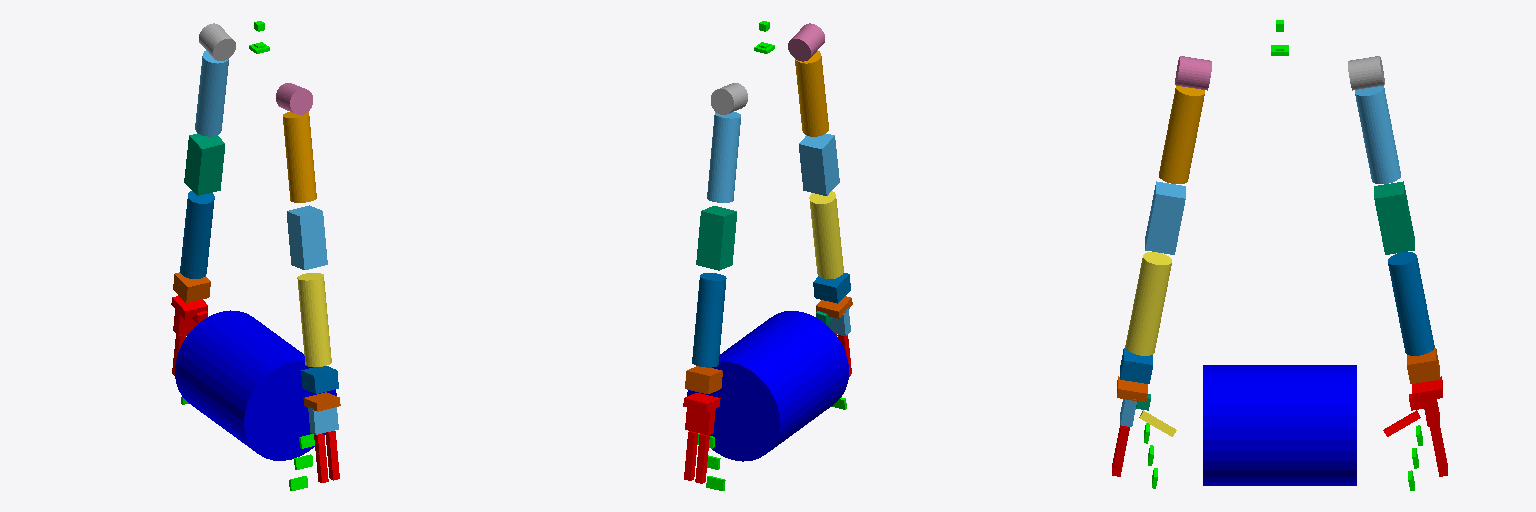
--- Render facts (derived) ---
Views: 3 orthographic renders of the robot side by side, from view 1: azimuth 30°, elevation 25°; view 2: azimuth 150°, elevation 25°; view 3: azimuth 270°, elevation 25°.
Robot: flintrobot — 55 links, 54 joints (19 revolute, 2 prismatic, 33 fixed); root link base_link; default pose: all joints at 0.
Links seen in each view (by area): view 1: base_link, right_forearm, right_posterior_arm, left_forearm, right_elbow, left_posterior_arm, left_elbow, left_shoulder, right_shoulder, right_forearm_b, left_forearm_b, right_hand; view 2: base_link, left_forearm, left_posterior_arm, right_forearm, left_elbow, right_posterior_arm, right_elbow, right_shoulder, left_shoulder, left_forearm_b, right_forearm_b, left_hand; view 3: base_link, right_forearm, left_forearm, right_posterior_arm, left_posterior_arm, right_elbow, left_elbow, right_shoulder, left_shoulder, right_forearm_b, left_forearm_b, left_wrist (+1 smaller).
Link boxes in pixels (left/top/right/bottom): base_link: left=175, top=310, right=336, bottom=460; right_forearm: left=297, top=273, right=331, bottom=366; right_posterior_arm: left=283, top=112, right=316, bottom=202; left_forearm: left=180, top=191, right=214, bottom=278; right_elbow: left=287, top=205, right=327, bottom=269; left_posterior_arm: left=195, top=50, right=228, bottom=136; left_elbow: left=184, top=133, right=224, bottom=195; left_shoulder: left=199, top=23, right=235, bottom=60; right_shoulder: left=276, top=83, right=312, bottom=114; right_forearm_b: left=301, top=366, right=338, bottom=393; left_forearm_b: left=173, top=272, right=210, bottom=302; right_hand: left=308, top=407, right=338, bottom=434; base_link: left=687, top=311, right=848, bottom=461; left_forearm: left=692, top=273, right=726, bottom=367; left_posterior_arm: left=707, top=112, right=740, bottom=202; right_forearm: left=809, top=191, right=843, bottom=278; left_elbow: left=696, top=206, right=736, bottom=270; right_posterior_arm: left=795, top=50, right=828, bottom=136; right_elbow: left=799, top=134, right=839, bottom=195; right_shoulder: left=788, top=23, right=824, bottom=61; left_shoulder: left=711, top=83, right=747, bottom=114; left_forearm_b: left=685, top=366, right=722, bottom=393; right_forearm_b: left=813, top=273, right=850, bottom=303; left_hand: left=685, top=408, right=715, bottom=434; base_link: left=1203, top=365, right=1356, bottom=485; right_forearm: left=1125, top=252, right=1171, bottom=355; left_forearm: left=1388, top=252, right=1434, bottom=355; right_posterior_arm: left=1159, top=86, right=1204, bottom=183; left_posterior_arm: left=1355, top=86, right=1400, bottom=183; right_elbow: left=1145, top=181, right=1185, bottom=254; left_elbow: left=1374, top=181, right=1414, bottom=254; right_shoulder: left=1175, top=56, right=1211, bottom=90; left_shoulder: left=1348, top=56, right=1384, bottom=90; right_forearm_b: left=1120, top=348, right=1152, bottom=383; left_forearm_b: left=1407, top=348, right=1439, bottom=383; left_wrist: left=1412, top=376, right=1442, bottom=402.
Bounding box of the posed robot: 0.28 × 0.7817 × 1.21 m (x, y, z).
0 mesh visuals loaded from 1 distinct referenced files (none loaded); not drawn: 1 (reference not matched to a file when rendering).

robot.urdf — flintrobot:
<?xml version="1.0"?>
<robot name="flintrobot"> 
  <link name="base_link">
    <visual>
      <geometry>
        <cylinder length="0.36" radius="0.14"/>
      </geometry>
      <material name="blue">
        <color rgba="0.0 0.0 1.0 0.5"/>
      </material>
      <origin rpy="1.57075 0 0" xyz="0 0 0.15"/>
    </visual>
    <collision>
      <geometry>
        <cylinder length="0.36" radius="0.14"/>
      </geometry>
      <origin rpy="1.57075 0 0" xyz="0 0 0.15"/>
    </collision>
  </link>      

  <link name="body_link">
    <!-- <visual>
      <geometry>
        <cylinder length="0.95" radius="0.15"/>
      </geometry>
      <material name="blue">
        <color rgba="0.0 0.0 1.0 0.5"/>
      </material>
      <origin rpy="0 0 0" xyz="0 0 0.625"/>
    </visual> -->
    <collision>
      <geometry>
        <cylinder length="0.95" radius="0.15"/>
      </geometry>
      <origin rpy="0 0 0" xyz="0 0 0.625"/>
    </collision>
  </link>

  <link name="imu_link">
    <visual>
      <geometry>
        <box size="0.03 0.02 0.002"/>
      </geometry>
      <material name="green">
        <color rgba="0.0 1.0 0.0 1.0"/>
      </material>
      <origin rpy="0 0 1.5708" xyz="0 0 0"/>
    </visual>
  </link>

  <joint name="robot_roll_angle" type="fixed">
    <axis xyz="0 1 0"/>
    <origin xyz="0 0 0.15"/>
    <parent link="base_link"/>
    <child link="body_link"/>
    <limit effort="1000" lower="-0.2618" upper="0.2618" velocity="1.0"/>
  </joint>

  <joint name="imu_to_body" type="fixed">
    <axis xyz="1 0 0"/>
    <origin xyz="0 0 0.06"/>
    <parent link="body_link"/>
    <child link="imu_link"/>
  </joint>

  <link name="head_base_root"/>

  <joint name="head_base_root_joint" type="fixed">
    <origin rpy="0 0 0" xyz="0.01041 0 0.96734"/>
    <parent link="body_link"/>
    <child link="head_base_root"/>
  </joint>

  <link name="head_base_raise_joint_x"/>

  <joint name="head_base_raise_joint_x" type="prismatic">
    <origin rpy="0 0 0" xyz="0 0 0"/>
    <axis xyz="1 0 0"/>
    <limit effort="1000" lower="0.0" upper="0.07044" velocity="0.1"/>
    <parent link="head_base_root"/>
    <child link="head_base_raise_joint_x"/>
  </joint>

  <link name="head_base_raise_joint_z"/>

  <joint name="head_base_raise_joint_z" type="prismatic">
    <origin rpy="0 0 0" xyz="0 0 0"/>
    <axis xyz="0 0 1"/>
    <limit effort="1000" lower="0.0" upper="0.03792" velocity="0.1"/>
    <parent link="head_base_raise_joint_x"/>
    <child link="head_base_raise_joint_z"/>
  </joint>

  <link name="head_base_raise_joint_pitch">
    <visual>
      <geometry>
        <box size="0.04 0.04 0.01"/>
      </geometry>
      <material name="green">
        <color rgba="0.0 1.0 0.0 1.0"/>
      </material>
      <origin rpy="0 0 0" xyz="0 0 0"/>
    </visual>
  </link>

  <joint name="head_base_raise_joint_pitch" type="revolute">
    <origin rpy="0 0 0" xyz="0 0 0"/>
    <axis xyz="0 1 0"/>
    <limit effort="1000" lower="0.0" upper="0.449946" velocity="0.1"/>
    <parent link="head_base_raise_joint_z"/>
    <child link="head_base_raise_joint_pitch"/>
  </joint>

  <link name="head_joint_1">
    <visual>
      <geometry>
        <box size="0.02 0.02 0.02"/>
      </geometry>
      <material name="green">
        <color rgba="0.0 1.0 0.0 1.0"/>
      </material>
      <origin rpy="0 0 0" xyz="0 0 0"/>
    </visual>
  </link>

  <joint name="head_joint_1" type="revolute">
    <origin rpy="0 0 0" xyz="0 0 0"/>
    <axis xyz="0 0 1"/>
    <limit effort="1000" lower="-0.7854" upper="0.7854" velocity="0.1"/>
    <parent link="head_base_raise_joint_pitch"/>
    <child link="head_joint_1"/>
  </joint>

  <link name="head_joint_2">
    <visual>
      <geometry>
        <box size="0.02 0.02 0.02"/>
      </geometry>
      <material name="green">
        <color rgba="0.0 1.0 0.0 1.0"/>
      </material>
      <origin rpy="0 0 0" xyz="0 0 0"/>
    </visual>
  </link>

  <joint name="head_joint_2" type="revolute">
    <origin rpy="0 0 0" xyz="0 0 0.063"/>
    <axis xyz="0 1 0"/>
    <limit effort="1000" lower="-0.3491" upper="0.7854" velocity="0.1"/>
    <parent link="head_joint_1"/>
    <child link="head_joint_2"/>
  </joint>

  <!-- <link name="camera_base">
    <visual>
      <geometry>
        <box size="0.02 0.18 0.02"/>
      </geometry>
      <origin rpy="0 0 0" xyz="0 0 0"/>
    </visual>
  </link>

  <joint name="head_joint_3" type="revolute">
    <origin rpy="0 0 0" xyz="0.065 0.0 0"/>
    <axis xyz="1 0 0"/>
    <limit effort="1000" lower="-0.3491" upper="0.3491" velocity="0.1"/>
    <parent link="head_joint_2"/>
    <child link="camera_base"/>
  </joint>

  <link name="left_eye">
    <visual>
      <geometry>
        <cylinder length="0.02" radius="0.01"/>
      </geometry>
      <material name="green">
        <color rgba="0.0 1.0 0.0 1.0"/>
      </material>
      <origin rpy="0 0 0" xyz="0.0 0.0 0.002"/>
    </visual>
  </link>

  <joint name="head_to_left_eye" type="fixed">
    <origin rpy="-1.5708 0 -1.5708" xyz="0.0 0.06 0.0"/>
    <parent link="camera_base"/>
    <child link="left_eye"/>
  </joint>

  <link name="right_eye">
    <visual>
      <geometry>
        <cylinder length="0.02" radius="0.01"/>
      </geometry>
      <material name="green">
        <color rgba="0.0 1.0 0.0 1.0"/>
      </material>
      <origin rpy="0 0 0" xyz="0.0 0.0 0.002"/>
    </visual>
  </link>

  <joint name="head_to_right_eye" type="fixed">
    <origin rpy="-1.5708 0 -1.5708" xyz="0.0 -0.06 0.0"/>
    <parent link="camera_base"/>
    <child link="right_eye"/>
  </joint> -->

  <!-- Camera Center -->
  <!-- <link name="zed_camera_center">
    <visual>
      <origin rpy="-1.5707963267948966 0 0" xyz="0.0 0 0.0"/>
      <geometry>
        <mesh filename="package://zed_msgs/meshes/zed2.stl"/>
      </geometry>
    </visual>
  </link> -->
  <link name="zed_camera_center_mock"/>
  <link name="zed_camera_link"/>
  <joint name="zed_camera_center_joint_mock" type="fixed">
    <child link="zed_camera_link"/>
    <parent link="zed_camera_center_mock"/>
    <origin rpy="0 -0.05 0" xyz="0 0 -0.015"/>
  </joint>
  <link name="zed_camera_center">
    <visual>
      <origin rpy="-1.5707963267948966 0 0" xyz="0.0 0 0.0"/>
      <geometry>
        <mesh filename="package://zed_msgs/meshes/zed2.stl"/>
      </geometry>
    </visual>
  </link>
  <joint name="zed_camera_center_joint" type="fixed">
    <child link="zed_camera_center"/>
    <parent link="zed_camera_link"/>
    <origin rpy="0 0.05 0" xyz="0 0 0.015"/>
  </joint>
  <!-- Left Camera -->
  <link name="zed_left_camera_frame">
  </link>
  <joint name="zed_left_camera_joint" type="fixed">
    <parent link="zed_camera_center"/>
    <child link="zed_left_camera_frame"/>
    <origin rpy="0 0 0" xyz="-0.01 0.06 0"/>
  </joint>
  <link name="zed_left_camera_optical_frame"/>
  <joint name="zed_left_camera_optical_joint" type="fixed">
    <origin rpy="-1.5707963267948966 0.0 -1.5707963267948966" xyz="0 0 0"/>
    <parent link="zed_left_camera_frame"/>
    <child link="zed_left_camera_optical_frame"/>
  </joint>
  <!-- Right Camera -->
  <link name="zed_right_camera_frame">
  </link>
  <joint name="zed_right_camera_joint" type="fixed">
    <parent link="zed_camera_center"/>
    <child link="zed_right_camera_frame"/>
    <origin rpy="0 0 0" xyz="-0.01 -0.06 0"/>
  </joint>
  <link name="zed_right_camera_optical_frame"/>
  <joint name="zed_right_camera_optical_joint" type="fixed">
    <origin rpy="-1.5707963267948966 0.0 -1.5707963267948966" xyz="0 0 0"/>
    <parent link="zed_right_camera_frame"/>
    <child link="zed_right_camera_optical_frame"/>
  </joint>
  <link name="zed_mag_link"/>
  <joint name="zed_mag_joint" type="fixed">
    <parent link="zed_camera_center"/>
    <child link="zed_mag_link"/>
    <origin rpy="0 0 0" xyz="0 0 0"/>
  </joint>
  <link name="zed_baro_link"/>
  <joint name="zed_baro_joint" type="fixed">
    <parent link="zed_camera_center"/>
    <child link="zed_baro_link"/>
    <origin rpy="0 0 0" xyz="0 0 0"/>
  </joint>
  <link name="zed_temp_left_link"/>
  <joint name="zed_temp_left_joint" type="fixed">
    <parent link="zed_left_camera_frame"/>
    <child link="zed_temp_left_link"/>
    <origin rpy="0 0 0" xyz="0 0 0"/>
  </joint>
  <link name="zed_temp_right_link"/>
  <joint name="zed_temp_right_joint" type="fixed">
    <parent link="zed_right_camera_frame"/>
    <child link="zed_temp_right_link"/>
    <origin rpy="0 0 0" xyz="0 0 0"/>
  </joint>

  <link name="zed_imu_link"/>
  <joint name="left_camera_to_imu" type="fixed">
    <parent link="zed_left_camera_frame"/>
    <child link="zed_imu_link"/>
  <origin xyz="-0.002 -0.023061 0.000217" rpy="0.09 0.29 -0.23"/>
  </joint>

  <joint name="head_joint_3" type="revolute">
    <origin rpy="0 0 0" xyz="0.065 0.0 0"/>
    <axis xyz="1 0 0"/>
    <limit effort="1000" lower="-0.3491" upper="0.3491" velocity="0.1"/>
    <parent link="head_joint_2"/>
    <child link="zed_camera_center_mock"/>
  </joint>

  <link name="right_shoulder_root"/>

  <joint name="right_shoulder_fixed_angle" type="fixed">
    <origin rpy="-0.17453 0 0" xyz="0 -0.116 0.89"/>
    <parent link="body_link"/>
    <child link="right_shoulder_root"/>
  </joint>

  <link name="right_shoulder">
    <visual>
      <geometry>
        <cylinder length="0.076" radius="0.035"/>
      </geometry>
      <origin rpy="1.57075 0 0" xyz="0 0 0"/>
    </visual>
    <collision>
      <geometry>
        <cylinder length="0.076" radius="0.035"/>
      </geometry>
      <origin rpy="1.57075 0 0" xyz="0 0 0"/>
    </collision>
  </link>

  <joint name="joint0" type="revolute">
    <axis xyz="0 1 0"/>
    <origin xyz="0 -0.086 0"/>
    <parent link="right_shoulder_root"/>
    <child link="right_shoulder"/>
    <limit effort="1000" lower="-3.1415926" upper="3.1415926" velocity="1.0"/>
  </joint>

  <link name="right_posterior_arm_root">
  </link>

  <joint name="joint1" type="revolute">
    <axis xyz="1 0 0"/>
    <origin xyz="0 0 0"/>
    <parent link="right_shoulder"/>
    <child link="right_posterior_arm_root"/>
    <limit effort="1000" lower="-1.5708" upper="0.1745" velocity="1.0"/>
  </joint>

  <link name="right_posterior_arm">
    <visual>
      <geometry>
        <cylinder length="0.23" radius="0.035"/>
      </geometry>
      <origin rpy="0 0 0" xyz="0 0 -0.0725"/>
    </visual>
    <collision>
      <geometry>
        <cylinder length="0.23" radius="0.035"/>
      </geometry>
      <origin rpy="0 0 0" xyz="0 0 -0.0725"/>
    </collision>
  </link>

  <joint name="joint2" type="revolute">
    <axis xyz="0 0 1"/>
    <origin xyz="0 0 -0.085"/>
    <parent link="right_posterior_arm_root"/>
    <child link="right_posterior_arm"/>
    <limit effort="1000" lower="-3.1415926" upper="3.1415926" velocity="1.0"/>
  </joint>

  <link name="right_elbow">
    <visual>
      <geometry>
        <box size="0.07 0.07 0.147"/>
      </geometry>
      <origin rpy="0 0 0" xyz="0 0 -0.0735"/>
    </visual>
    <collision>
      <geometry>
        <box size="0.07 0.07 0.147"/>
      </geometry>
      <origin rpy="0 0 0" xyz="0 0 -0.0735"/>
    </collision>
  </link>

  <joint name="joint3" type="revolute">
    <axis xyz="0 1 0"/>
    <origin xyz="0 0 -0.22"/>
    <parent link="right_posterior_arm"/>
    <child link="right_elbow"/>
    <limit effort="1000" lower="-1.5708" upper="0.0" velocity="1.0"/>
  </joint>

  <link name="right_forearm_root">
  </link>

  <joint name="joint4" type="revolute">
    <axis xyz="0 1 0"/>
    <origin xyz="0 0 -0.147"/>
    <parent link="right_elbow"/>
    <child link="right_forearm_root"/>
    <limit effort="1000" lower="-1.5708" upper="0.0" velocity="1.0"/>
  </joint>

  <link name="right_forearm">
    <visual>
      <geometry>
        <cylinder length="0.236" radius="0.035"/>
      </geometry>
      <origin rpy="0 0 0" xyz="0 0 -0.033"/>
    </visual>
    <collision>
      <geometry>
        <cylinder length="0.236" radius="0.035"/>
      </geometry>
      <origin rpy="0 0 0" xyz="0 0 -0.033"/>
    </collision>
  </link>

  <joint name="joint5" type="revolute">
    <axis xyz="0 0 1"/>
    <origin xyz="0 0 -0.11678"/>
    <parent link="right_forearm_root"/>
    <child link="right_forearm"/>
    <limit effort="1000" lower="-3.1415926" upper="3.1415926" velocity="1.0"/>
  </joint>

  <link name="right_forearm_b">
    <visual>
      <geometry>
        <box size="0.07 0.07 0.05"/>
      </geometry>
      <origin rpy="0 0 0" xyz="0 0 0.005"/>
    </visual>
    <collision>
      <geometry>
        <box size="0.07 0.07 0.05"/>
      </geometry>
      <origin rpy="0 0 0" xyz="0 0 0.005"/>
    </collision>
  </link>

  <joint name="joint6" type="revolute">
    <axis xyz="0 1 0"/>
    <origin xyz="0 0 -0.2"/>
    <parent link="right_forearm"/>
    <child link="right_forearm_b"/>
    <limit effort="1000" lower="-0.5236" upper="0.5236" velocity="1.0"/>
  </joint>

  <link name="right_wrist">
    <visual>
      <geometry>
        <box size="0.07 0.07 0.023"/>
      </geometry>
      <origin rpy="0 0 0" xyz="0 0 -0.0115"/>
    </visual>
    <collision>
      <geometry>
        <box size="0.07 0.07 0.023"/>
      </geometry>
      <origin rpy="0 0 0" xyz="0 0 -0.0115"/>
    </collision>
  </link>

  <joint name="joint7" type="revolute">
    <axis xyz="1 0 0"/>
    <origin xyz="0 0 -0.04472"/>
    <parent link="right_forearm_b"/>
    <child link="right_wrist"/>
    <limit effort="1000" lower="-0.7854" upper="0.7854" velocity="1.0"/>
  </joint>

  <link name="right_grasp_center">
    <visual>
      <geometry>
        <box size="0.03 0.01 0.05"/>
      </geometry>
      <material name="green">
        <color rgba="0.0 1.0 0.0 1.0"/>
      </material>
      <origin rpy="0 0 0" xyz="0 0 0"/>
    </visual>
  </link>

  <joint name="right_wrists_to_grasp_center" type="fixed">
    <parent link="right_wrist"/>
    <child link="right_grasp_center"/>
    <origin rpy="0 1.5708 0" xyz="-0.02 0.055 -0.125"/>
  </joint>

  <link name="right_grasp_prepare_2">
    <visual>
      <geometry>
        <box size="0.03 0.01 0.05"/>
      </geometry>
      <material name="green">
        <color rgba="0.0 1.0 0.0 1.0"/>
      </material>
      <origin rpy="0 0 0" xyz="0 0 0"/>
    </visual>
  </link>

  <joint name="right_grasp_center_to_grasp_prepare_2" type="fixed">
    <parent link="right_grasp_center"/>
    <child link="right_grasp_prepare_2"/>
    <origin rpy="0 0 0" xyz="0.06 0.02 -0.01"/>
  </joint>

  <link name="right_grasp_prepare">
    <visual>
      <geometry>
        <box size="0.03 0.01 0.05"/>
      </geometry>
      <material name="green">
        <color rgba="0.0 1.0 0.0 1.0"/>
      </material>
      <origin rpy="0 0 0" xyz="0 0 0"/>
    </visual>
  </link>

  <joint name="right_grasp_center_to_grasp_prepare" type="fixed">
    <parent link="right_grasp_center"/>
    <child link="right_grasp_prepare"/>
    <origin rpy="0 0 0" xyz="0.12 0.04 -0.02"/>
  </joint>

  <link name="right_hand">
    <visual>
      <geometry>
        <box size="0.07 0.028 0.072"/>
      </geometry>
      <origin rpy="0 0 0" xyz="0 0 -0.055"/>
    </visual>
    <collision>
      <geometry>
        <box size="0.07 0.028 0.072"/>
      </geometry>
      <origin rpy="0 0 0" xyz="0 0 -0.055"/>
    </collision>
  </link>

  <joint name="wrist_to_hand" type="fixed">
    <parent link="right_wrist"/>
    <child link="right_hand"/>
  </joint>

  <link name="right_hand2">
    <visual>
      <geometry>
        <box size="0.03 0.03 0.03"/>
      </geometry>
      <origin rpy="0 -0.087 0" xyz="0.016 0.03 -0.03"/>
    </visual>
    <collision>
      <geometry>
        <box size="0.03 0.03 0.03"/>
      </geometry>
      <origin rpy="0 -0.087 0" xyz="0.016 0.03 -0.03"/>
    </collision>
  </link>

  <joint name="wrist_to_hand2" type="fixed">
    <parent link="right_wrist"/>
    <child link="right_hand2"/>
    <origin rpy="0 0 0" xyz="0 0 0"/>
  </joint>

  <link name="right_finger1">
    <visual>
      <geometry>
        <box size="0.02 0.09 0.02"/>
      </geometry>
      <origin rpy="-0.72558 1.04635 -0.797603" xyz="0.028 0.072 -0.075"/>
    </visual>
    <collision>
      <geometry>
        <box size="0.02 0.09 0.02"/>
      </geometry>
      <origin rpy="-0.72558 1.04635 -0.797603" xyz="0.028 0.072 -0.075"/>
    </collision>
  </link>

  <joint name="wrists_to_finger1" type="fixed">
    <parent link="right_wrist"/>
    <child link="right_finger1"/>
    <origin rpy="0 0 0" xyz="0 0 0"/>
  </joint>

  <link name="right_finger2">
    <visual>
      <geometry>
        <box size="0.02 0.02 0.13"/>
      </geometry>
      <material name="red">
        <color rgba="1.0 0.0 0.0 0.5"/>
      </material>
      <origin rpy="0 0 0" xyz="0.017 0 -0.16"/>
    </visual>
    <collision>
      <geometry>
        <box size="0.02 0.02 0.13"/>
      </geometry>
      <origin rpy="0 0 0" xyz="0.017 0 -0.16"/>
    </collision>
  </link>

  <joint name="wrists_to_finger2" type="fixed">
    <parent link="right_wrist"/>
    <child link="right_finger2"/>
    <origin rpy="0 0 0" xyz="0 0 0"/>
  </joint>

  <link name="right_finger3">
    <visual>
      <geometry>
        <box size="0.02 0.02 0.13"/>
      </geometry>
      <material name="red">
        <color rgba="1.0 0.0 0.0 0.5"/>
      </material>
      <origin rpy="0 0 0" xyz="-0.017 0 -0.16"/>
    </visual>
    <collision>
      <geometry>
        <box size="0.02 0.02 0.13"/>
      </geometry>
      <origin rpy="0 0 0" xyz="-0.017 0 -0.16"/>
    </collision>
  </link>

  <joint name="wrists_to_finger3" type="fixed">
    <parent link="right_wrist"/>
    <child link="right_finger3"/>
    <origin rpy="0 0 0" xyz="0 0 0"/>
  </joint>

  <link name="left_shoulder_root">
  </link>

  <joint name="left_shoulder_fixed_angle" type="fixed">
    <origin rpy="0.17453 0 0" xyz="0 0.116 0.89"/>
    <parent link="body_link"/>
    <child link="left_shoulder_root"/>
  </joint>

  <link name="left_shoulder">
    <visual>
      <geometry>
        <cylinder length="0.076" radius="0.035"/>
      </geometry>
      <origin rpy="1.57075 0 0" xyz="0 0 0"/>
    </visual>
    <collision>
      <geometry>
        <cylinder length="0.076" radius="0.035"/>
      </geometry>
      <origin rpy="1.57075 0 0" xyz="0 0 0"/>
    </collision>
  </link>

  <joint name="joint0b" type="revolute">
    <axis xyz="0 1 0"/>
    <origin xyz="0 0.086 0"/>
    <parent link="left_shoulder_root"/>
    <child link="left_shoulder"/>
    <limit effort="1000" lower="-3.1415926" upper="3.1415926" velocity="1.0"/>
  </joint>

  <link name="left_posterior_arm_root">
  </link>

  <joint name="joint1b" type="revolute">
    <axis xyz="1 0 0"/>
    <origin xyz="0 0 0"/>
    <parent link="left_shoulder"/>
    <child link="left_posterior_arm_root"/>
    <limit effort="1000" lower="-0.1745" upper="1.5708" velocity="1.0"/>
  </joint>

  <link name="left_posterior_arm">
    <visual>
      <geometry>
        <cylinder length="0.23" radius="0.035"/>
      </geometry>
      <origin rpy="0 0 0" xyz="0 0 -0.0725"/>
    </visual>
    <collision>
      <geometry>
        <cylinder length="0.23" radius="0.035"/>
      </geometry>
      <origin rpy="0 0 0" xyz="0 0 -0.0725"/>
    </collision>
  </link>

  <joint name="joint2b" type="revolute">
    <axis xyz="0 0 1"/>
    <origin xyz="0 0 -0.085"/>
    <parent link="left_posterior_arm_root"/>
    <child link="left_posterior_arm"/>
    <limit effort="1000" lower="-3.1415926" upper="3.1415926" velocity="1.0"/>
  </joint>

  <link name="left_elbow">
    <visual>
      <geometry>
        <box size="0.07 0.07 0.147"/>
      </geometry>
      <origin rpy="0 0 0" xyz="0 0 -0.0735"/>
    </visual>
    <collision>
      <geometry>
        <box size="0.07 0.07 0.147"/>
      </geometry>
      <origin rpy="0 0 0" xyz="0 0 -0.0735"/>
    </collision>
  </link>

  <joint name="joint3b" type="revolute">
    <axis xyz="0 1 0"/>
    <origin xyz="0 0 -0.22"/>
    <parent link="left_posterior_arm"/>
    <child link="left_elbow"/>
    <limit effort="1000" lower="-1.5708" upper="0.0" velocity="1.0"/>
  </joint>

  <link name="left_forearm_root">
  </link>

  <joint name="joint4b" type="revolute">
    <axis xyz="0 1 0"/>
    <origin xyz="0 0 -0.147"/>
    <parent link="left_elbow"/>
    <child link="left_forearm_root"/>
    <limit effort="1000" lower="-1.5708" upper="0.0" velocity="1.0"/>
  </joint>

  <link name="left_forearm">
    <visual>
      <geometry>
        <cylinder length="0.236" radius="0.035"/>
      </geometry>
      <origin rpy="0 0 0" xyz="0 0 -0.033"/>
    </visual>
    <collision>
      <geometry>
        <cylinder length="0.236" radius="0.035"/>
      </geometry>
      <origin rpy="0 0 0" xyz="0 0 -0.033"/>
    </collision>
  </link>

  <joint name="joint5b" type="revolute">
    <axis xyz="0 0 1"/>
    <origin xyz="0 0 -0.11678"/>
    <parent link="left_forearm_root"/>
    <child link="left_forearm"/>
    <limit effort="1000" lower="-3.1415926" upper="3.1415926" velocity="1.0"/>
  </joint>

  <link name="left_forearm_b">
    <visual>
      <geometry>
        <box size="0.07 0.07 0.05"/>
      </geometry>
      <origin rpy="0 0 0" xyz="0 0 0.005"/>
    </visual>
    <collision>
      <geometry>
        <box size="0.07 0.07 0.05"/>
      </geometry>
      <origin rpy="0 0 0" xyz="0 0 0.005"/>
    </collision>
  </link>

  <joint name="joint6b" type="fixed">
    <axis xyz="0 1 0"/>
    <origin xyz="0 0 -0.2"/>
    <parent link="left_forearm"/>
    <child link="left_forearm_b"/>
    <limit effort="1000" lower="-0.5236" upper="0.5236" velocity="1.0"/>
  </joint>

  <link name="left_wrist">
    <visual>
      <geometry>
        <box size="0.07 0.07 0.023"/>
      </geometry>
      <material name="red">
        <color rgba="1.0 0.0 0.0 0.5"/>
      </material>
      <origin rpy="0 0 0" xyz="0 0 -0.0115"/>
    </visual>
    <collision>
      <geometry>
        <box size="0.07 0.07 0.023"/>
      </geometry>
      <origin rpy="0 0 0" xyz="0 0 -0.0115"/>
    </collision>
  </link>

  <joint name="joint7b" type="revolute">
    <axis xyz="1 0 0"/>
    <origin xyz="0 0 -0.04472"/>
    <parent link="left_forearm_b"/>
    <child link="left_wrist"/>
    <limit effort="1000" lower="-0.7854" upper="0.7854" velocity="1.0"/>
  </joint>

  <link name="left_grasp_center">
    <visual>
      <geometry>
        <box size="0.03 0.01 0.05"/>
      </geometry>
      <material name="green">
        <color rgba="0.0 1.0 0.0 1.0"/>
      </material>
      <origin rpy="0 0 0" xyz="0 0 0"/>
    </visual>
  </link>

  <joint name="left_wrists_to_grasp_center" type="fixed">
    <parent link="left_wrist"/>
    <child link="left_grasp_center"/>
    <origin rpy="0 1.5708 0" xyz="0.0 -0.04 -0.125"/>
  </joint>

  <link name="left_grasp_prepare_2">
    <visual>
      <geometry>
        <box size="0.03 0.01 0.05"/>
      </geometry>
      <material name="green">
        <color rgba="0.0 1.0 0.0 1.0"/>
      </material>
      <origin rpy="0 0 0" xyz="0 0 0"/>
    </visual>
  </link>

  <joint name="left_grasp_center_to_grasp_prepare_2" type="fixed">
    <parent link="left_grasp_center"/>
    <child link="left_grasp_prepare_2"/>
    <origin rpy="0 0 0" xyz="0.06 -0.02 -0.01"/>
  </joint>

  <link name="left_grasp_prepare">
    <visual>
      <geometry>
        <box size="0.03 0.01 0.05"/>
      </geometry>
      <material name="green">
        <color rgba="0.0 1.0 0.0 1.0"/>
      </material>
      <origin rpy="0 0 0" xyz="0 0 0"/>
    </visual>
  </link>

  <joint name="left_grasp_center_to_grasp_prepare" type="fixed">
    <parent link="left_grasp_center"/>
    <child link="left_grasp_prepare"/>
    <origin rpy="0 0 0" xyz="0.12 -0.04 -0.02"/>
  </joint>

  <link name="left_hand">
    <visual>
      <geometry>
        <box size="0.07 0.028 0.072"/>
      </geometry>
      <material name="red">
        <color rgba="1.0 0.0 0.0 0.5"/>
      </material>
      <origin rpy="0 0 0" xyz="0 0 -0.055"/>
    </visual>
    <collision>
      <geometry>
        <box size="0.07 0.028 0.072"/>
      </geometry>
      <origin rpy="0 0 0" xyz="0 0 -0.055"/>
    </collision>
  </link>

  <joint name="left_wrist_to_hand" type="fixed">
    <parent link="left_wrist"/>
    <child link="left_hand"/>
  </joint>

  <link name="left_hand2">
    <visual>
      <geometry>
        <box size="0.03 0.03 0.03"/>
      </geometry>
      <material name="red">
        <color rgba="1.0 0.0 0.0 0.5"/>
      </material>
      <origin rpy="0 -0.087 0" xyz="0.016 -0.03 -0.03"/>
    </visual>
    <collision>
      <geometry>
        <box size="0.03 0.03 0.03"/>
      </geometry>
      <origin rpy="0 -0.087 0" xyz="0.016 -0.03 -0.03"/>
    </collision>
  </link>

  <joint name="left_wrist_to_hand2" type="fixed">
    <parent link="left_wrist"/>
    <child link="left_hand2"/>
    <origin rpy="0 0 0" xyz="0 0 0"/>
  </joint>

  <link name="left_finger1">
    <visual>
      <geometry>
        <box size="0.02 0.09 0.02"/>
      </geometry>
      <material name="red">
        <color rgba="1.0 0.0 0.0 0.5"/>
      </material>
      <origin rpy="2.416011 -1.04635 -2.34399" xyz="0.028 -0.072 -0.075"/>
    </visual>
    <collision>
      <geometry>
        <box size="0.02 0.09 0.02"/>
      </geometry>
      <origin rpy="2.416011 -1.04635 -2.34399" xyz="0.028 -0.072 -0.075"/>
    </collision>
  </link>

  <joint name="left_wrists_to_finger1" type="fixed">
    <parent link="left_wrist"/>
    <child link="left_finger1"/>
    <origin rpy="0 0 0" xyz="0 0 0"/>
  </joint>

  <link name="left_finger2">
    <visual>
      <geometry>
        <box size="0.02 0.02 0.13"/>
      </geometry>
      <material name="red">
        <color rgba="1.0 0.0 0.0 0.5"/>
      </material>
      <origin rpy="0 0 0" xyz="0.017 0 -0.16"/>
    </visual>
    <collision>
      <geometry>
        <box size="0.02 0.02 0.13"/>
      </geometry>
      <origin rpy="0 0 0" xyz="0.017 0 -0.16"/>
    </collision>
  </link>

  <joint name="left_wrists_to_finger2" type="fixed">
    <parent link="left_wrist"/>
    <child link="left_finger2"/>
    <origin rpy="0 0 0" xyz="0 0 0"/>
  </joint>

  <link name="left_finger3">
    <visual>
      <geometry>
        <box size="0.02 0.02 0.13"/>
      </geometry>
      <material name="red">
        <color rgba="1.0 0.0 0.0 0.5"/>
      </material>
      <origin rpy="0 0 0" xyz="-0.017 0 -0.16"/>
    </visual>
    <collision>
      <geometry>
        <box size="0.02 0.02 0.13"/>
      </geometry>
      <origin rpy="0 0 0" xyz="-0.017 0 -0.16"/>
    </collision>
  </link>

  <joint name="left_wrists_to_finger3" type="fixed">
    <parent link="left_wrist"/>
    <child link="left_finger3"/>
    <origin rpy="0 0 0" xyz="0 0 0"/>
  </joint>

</robot>
